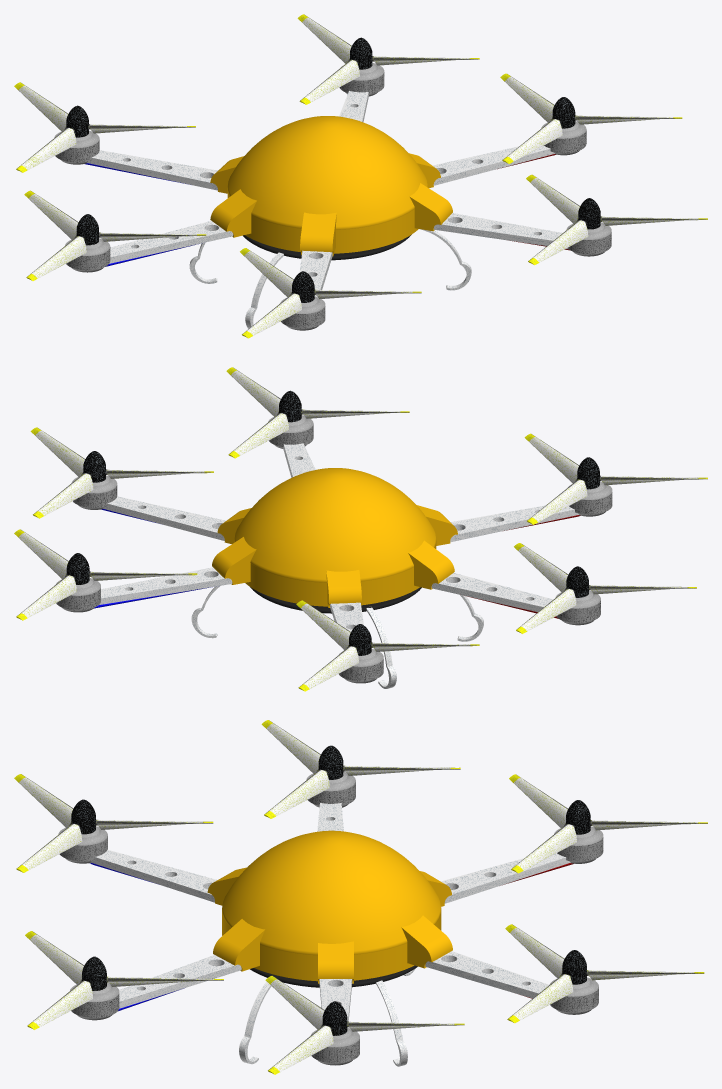
The picture shows the model from 3 angles, top to bottom: view 1: azimuth 30°, elevation 25°; view 2: azimuth 150°, elevation 25°; view 3: azimuth 270°, elevation 25°; orthographic projection. The views are drawn at different scales.
Parts seen in each view (by area): view 1: Komponente_1, Rotor_Blade_2 (×12), Komponente_2 (×6), Komponente_6 (×4), Komponente_3 (×6), Komponente_13 (×6), Komponente_7, Komponente_8; view 2: Komponente_1, Rotor_Blade_2 (×12), Komponente_2 (×6), Komponente_6 (×4), Komponente_3 (×6), Komponente_13 (×6), Komponente_7, Komponente_8; view 3: Komponente_1, Rotor_Blade_2 (×15), Komponente_2 (×6), Komponente_6 (×4), Komponente_3 (×6), Komponente_13 (×6), Komponente_8 (×2), Komponente_7.
Boxes of the visible parts, left/top/right/bottom form: Komponente_1: left=227, top=116, right=427, bottom=253; Rotor_Blade_2 (×12): left=18, top=17, right=588, bottom=335; Komponente_2 (×6): left=87, top=91, right=568, bottom=297; Komponente_6 (×4): left=210, top=156, right=452, bottom=256; Komponente_3 (×6): left=55, top=72, right=611, bottom=328; Komponente_13 (×6): left=66, top=37, right=600, bottom=302; Komponente_7: left=243, top=234, right=411, bottom=260; Komponente_8: left=245, top=252, right=283, bottom=331; Komponente_1: left=234, top=468, right=436, bottom=606; Rotor_Blade_2 (×12): left=18, top=370, right=587, bottom=688; Komponente_2 (×6): left=99, top=443, right=578, bottom=650; Komponente_6 (×4): left=212, top=505, right=457, bottom=607; Komponente_3 (×6): left=56, top=424, right=612, bottom=681; Komponente_13 (×6): left=66, top=390, right=599, bottom=655; Komponente_7: left=250, top=587, right=421, bottom=613; Komponente_8: left=366, top=607, right=396, bottom=688; Komponente_1: left=222, top=830, right=441, bottom=981; Rotor_Blade_2 (×15): left=19, top=723, right=576, bottom=1071; Komponente_2 (×6): left=90, top=803, right=570, bottom=1027; Komponente_6 (×4): left=207, top=867, right=452, bottom=983; Komponente_3 (×6): left=59, top=782, right=603, bottom=1063; Komponente_13 (×6): left=71, top=745, right=590, bottom=1035; Komponente_8 (×2): left=239, top=980, right=407, bottom=1066; Komponente_7: left=250, top=965, right=417, bottom=987.
Size of the model in its own units: 307 by 256 by 73.31.
